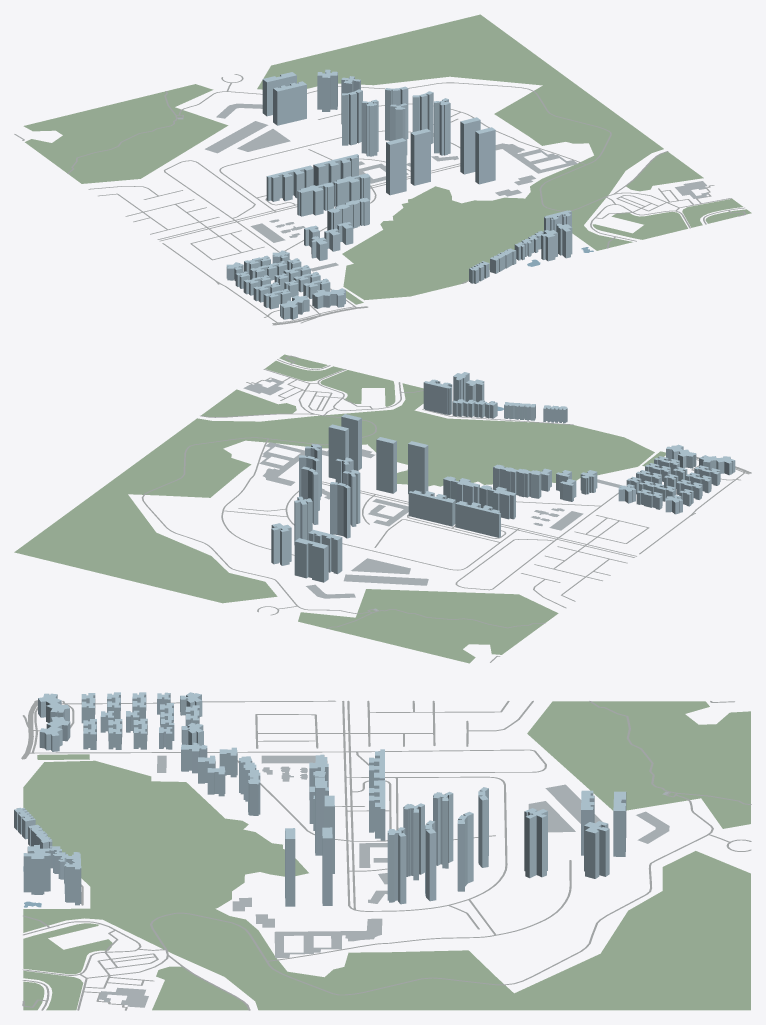
File: 15_3-known-coarse.glb
3 renders of one model, top to bottom at view 1: azimuth 30°, elevation 25°; view 2: azimuth 150°, elevation 25°; view 3: azimuth 270°, elevation 25°, orthographic. The views are drawn at different scales.
Bounding box in the file's own units: 1005 × 102 × 1009.
